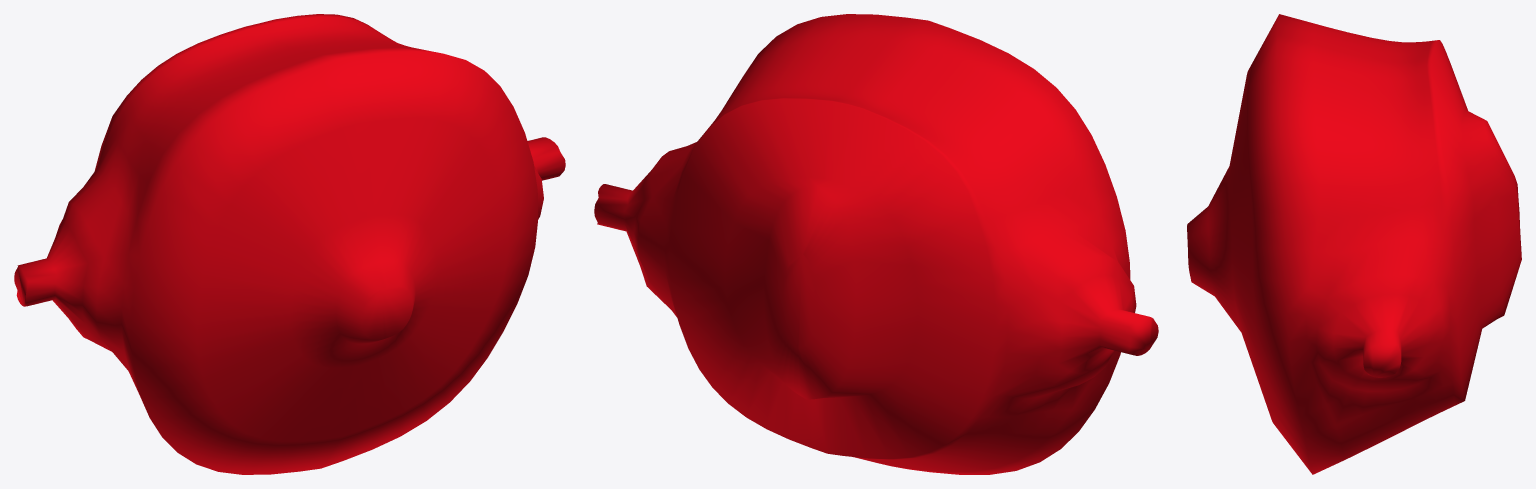
File: Chest034.fbx
3 views of the same model, side by side, from view 1: azimuth 30°, elevation 25°; view 2: azimuth 150°, elevation 25°; view 3: azimuth 270°, elevation 25° (orthographic). The views are drawn at different scales.
Parts seen in each view (by area): view 1: Cube.008; view 2: Cube.008; view 3: Cube.008.
Part boxes in pixels (x1,y1,x2,y2): Cube.008: [14, 14, 565, 474]; Cube.008: [594, 14, 1158, 474]; Cube.008: [1187, 14, 1521, 474].
Bounding box in the file's own units: 25.27 × 18.98 × 14.19.
